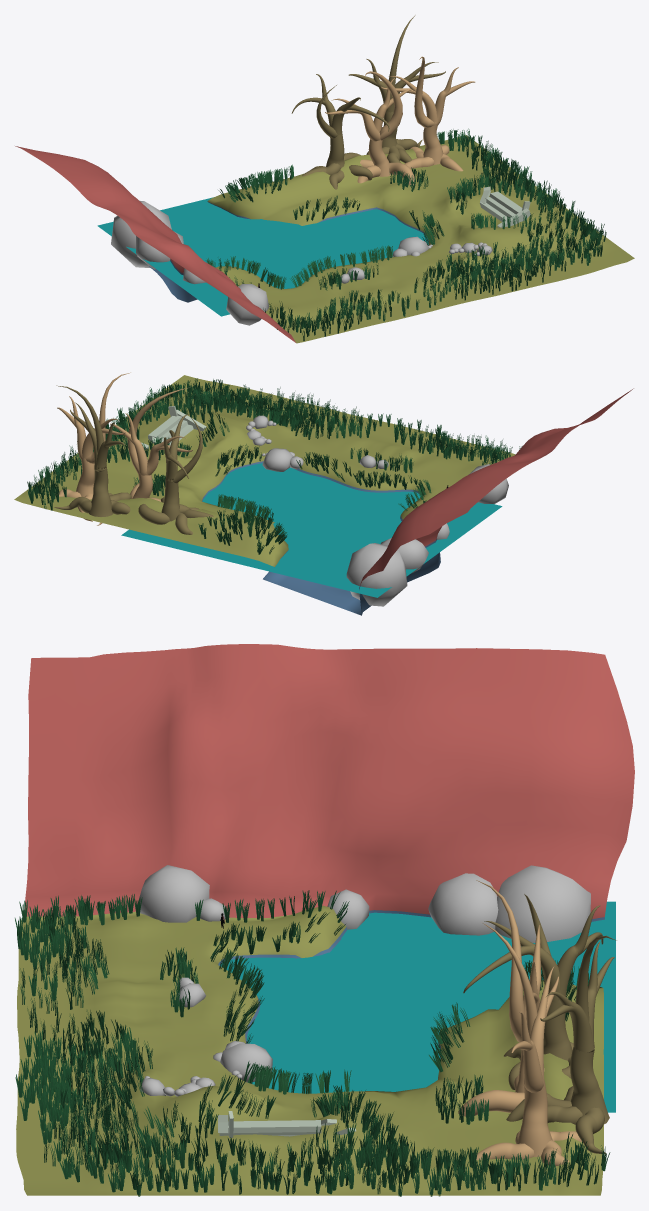
The model's file is escenario_v4.fbx.
3 views of the same model, one above another, from view 1: azimuth 30°, elevation 25°; view 2: azimuth 150°, elevation 25°; view 3: azimuth 270°, elevation 25° (orthographic). The views are drawn at different scales.
Parts seen in each view (by area): view 1: Suelo, Agua, Arbol_01, Arbol_03, Arbol_04, Arbol_02, escaleras, Piedra.020, Piedra.016, Piedra.018; view 2: Suelo, Agua, Arbol_02, Arbol_04, Piedra.020, Arbol_03, Arbol_01, escaleras, Piedra.018, Piedra, Piedra.016; view 3: Suelo, Agua, Arbol_02, Arbol_01, Piedra.020, Arbol_04, Piedra.018, Arbol_03, Piedra.016, escaleras, Piedra, Piedra.019.
Boxes of the visible parts, x1=… form: Suelo: x1=15, y1=135, x2=634, y2=343; Agua: x1=97, y1=197, x2=428, y2=316; Arbol_01: x1=381, y1=56, x2=475, y2=171; Arbol_03: x1=325, y1=71, x2=415, y2=185; Arbol_04: x1=291, y1=74, x2=389, y2=189; Arbol_02: x1=348, y1=15, x2=445, y2=162; escaleras: x1=479, y1=186, x2=530, y2=227; Piedra.020: x1=111, y1=200, x2=171, y2=267; Piedra.016: x1=226, y1=284, x2=269, y2=325; Piedra.018: x1=136, y1=231, x2=183, y2=269; Suelo: x1=14, y1=375, x2=633, y2=615; Agua: x1=121, y1=463, x2=502, y2=597; Arbol_02: x1=54, y1=385, x2=131, y2=516; Arbol_04: x1=138, y1=414, x2=213, y2=534; Piedra.020: x1=346, y1=543, x2=407, y2=606; Arbol_03: x1=97, y1=387, x2=192, y2=525; Arbol_01: x1=57, y1=372, x2=130, y2=521; escaleras: x1=141, y1=406, x2=206, y2=449; Piedra.018: x1=380, y1=538, x2=428, y2=573; Piedra: x1=262, y1=448, x2=293, y2=471; Piedra.016: x1=468, y1=464, x2=508, y2=504; Suelo: x1=16, y1=644, x2=634, y2=1195; Agua: x1=219, y1=901, x2=615, y2=1112; Arbol_02: x1=506, y1=935, x2=616, y2=1154; Arbol_01: x1=476, y1=923, x2=581, y2=1166; Piedra.020: x1=495, y1=865, x2=590, y2=942; Arbol_04: x1=463, y1=894, x2=603, y2=1089; Piedra.018: x1=428, y1=873, x2=498, y2=935; Arbol_03: x1=458, y1=880, x2=544, y2=1116; Piedra.016: x1=139, y1=865, x2=209, y2=922; escaleras: x1=218, y1=1111, x2=356, y2=1137; Piedra: x1=220, y1=1043, x2=272, y2=1082; Piedra.019: x1=327, y1=889, x2=369, y2=929.
Bounding box in the file's own units: 75619 × 25549 × 52229.
